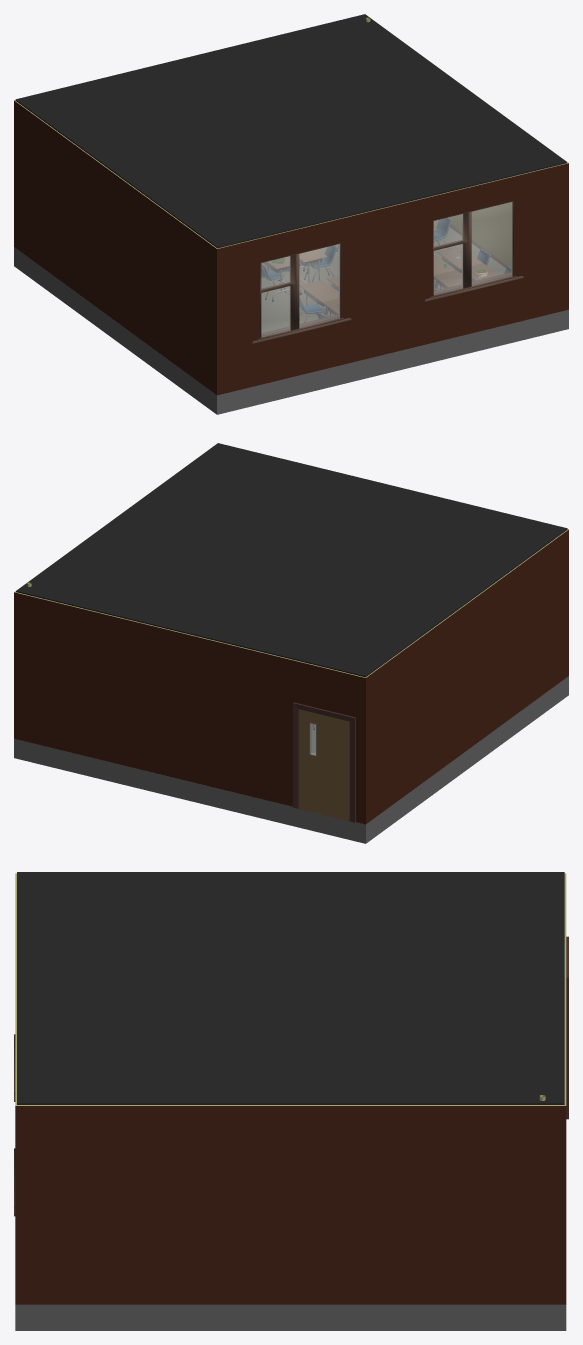
File: low_poly_classroom.glb
The picture shows the model from 3 angles, top to bottom: view 1: azimuth 30°, elevation 25°; view 2: azimuth 150°, elevation 25°; view 3: azimuth 270°, elevation 25°; orthographic projection. The views are drawn at different scales.
Visible parts, largest first — view 1: Object_24, Object_23, Object_2, Object_20, Object_21, Object_22; view 2: Object_24, Object_23; view 3: Object_24, Object_23.
Boxes of the visible parts, x1,y1,x2,y2 form: Object_24: (14,14,568,395); Object_23: (14,17,568,414); Object_2: (261,202,512,337); Object_20: (299,227,437,320); Object_21: (323,254,461,316); Object_22: (266,249,327,294); Object_24: (14,443,568,824); Object_23: (14,582,568,843); Object_24: (14,872,568,1304); Object_23: (15,1095,566,1330).
Bounding box in the file's own units: 35.2 × 16.25 × 35.46.
Materials: 2 (1 with a texture image).
